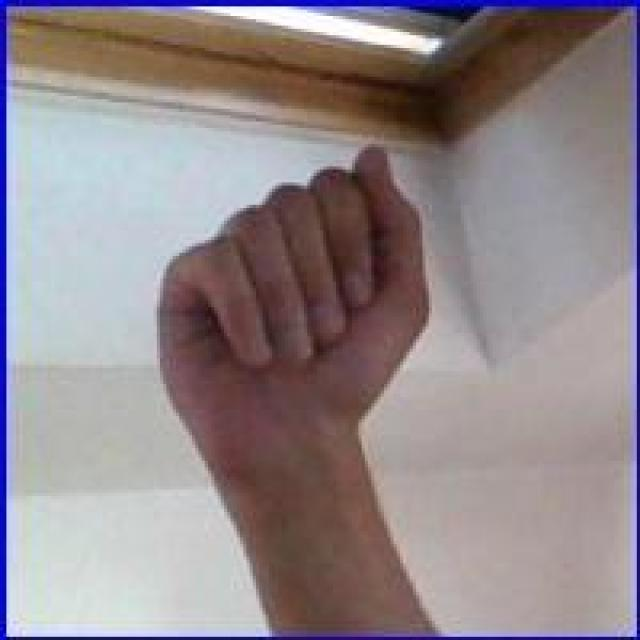A: (150, 144, 432, 480)
